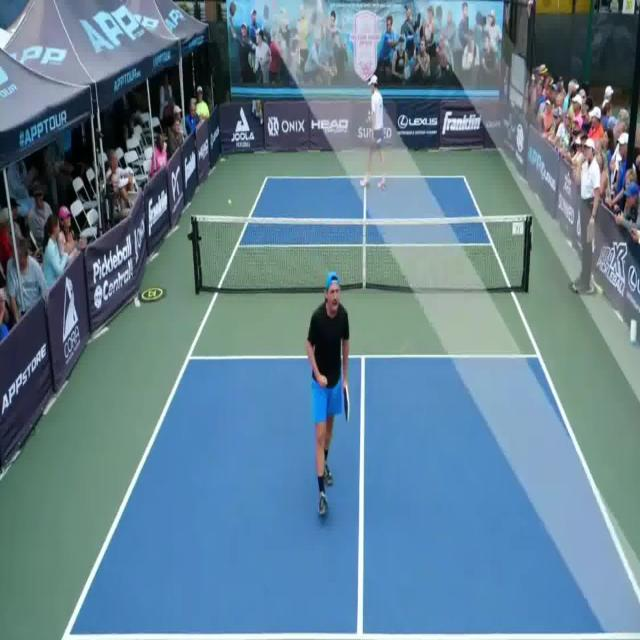ball: (228, 197, 232, 204)
